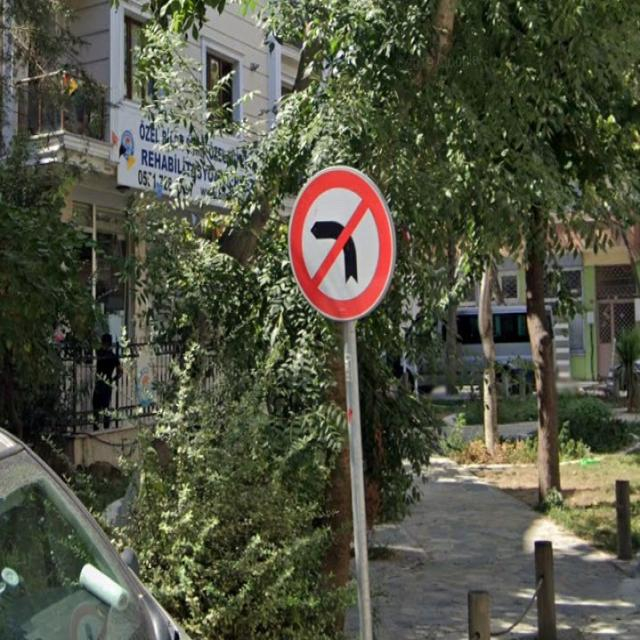soladonulmez: (288, 166, 394, 314)
